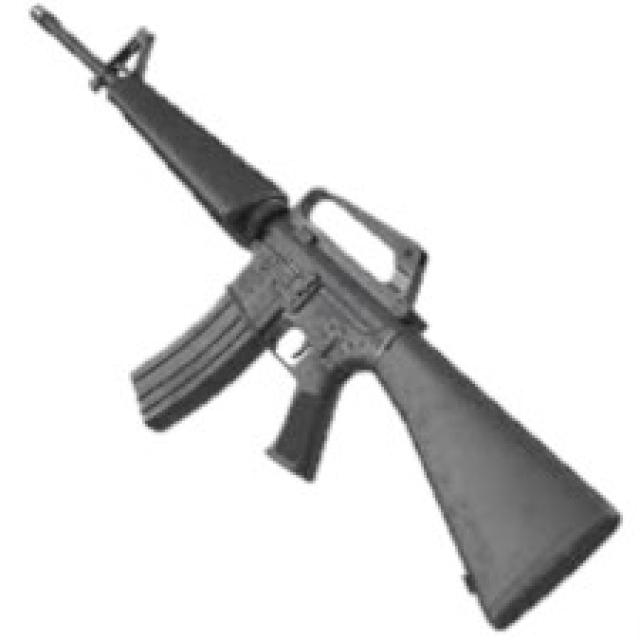rifle: (24, 3, 635, 640)
